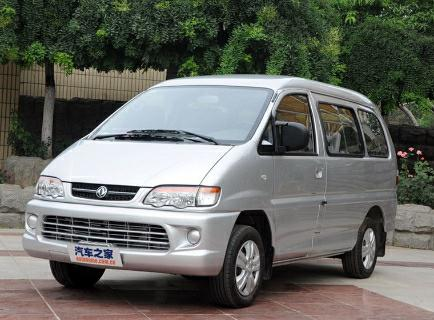东风风行-菱智: (20, 69, 400, 313)
